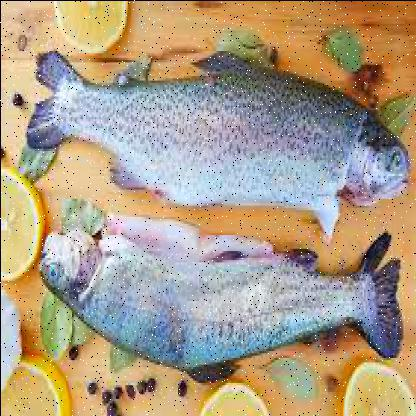fish: (31, 51, 413, 207), (39, 213, 403, 363)
